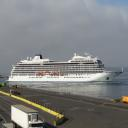cruises: (6, 52, 126, 84)
